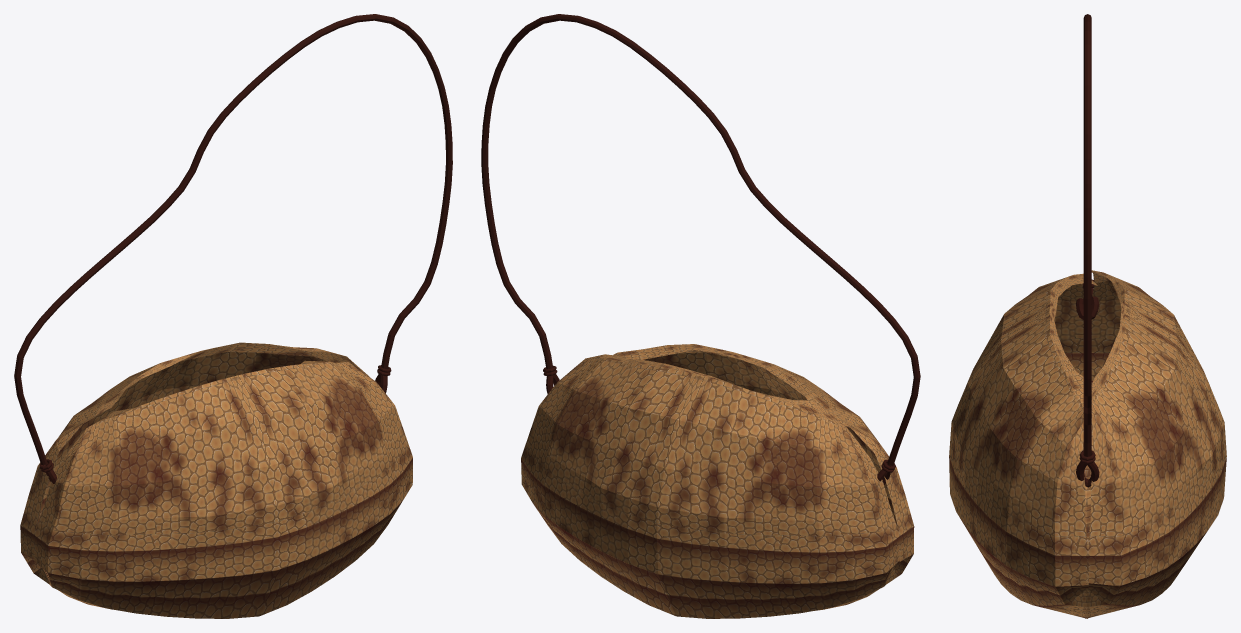
Rendered from armadillo-bolso.glb.
3 views of the same model, side by side, from view 1: azimuth 30°, elevation 25°; view 2: azimuth 150°, elevation 25°; view 3: azimuth 270°, elevation 25° (orthographic). The views are drawn at different scales.
Parts seen in each view (by area): view 1: Armadillo, Cylinder.002; view 2: Armadillo, Cylinder.002; view 3: Armadillo, Cylinder.002, Cylinder.001.
Part boxes in pixels (x1=…): Armadillo: x1=20, y1=342, x2=412, y2=618; Cylinder.002: x1=14, y1=14, x2=452, y2=464; Armadillo: x1=521, y1=344, x2=914, y2=618; Cylinder.002: x1=481, y1=14, x2=920, y2=465; Armadillo: x1=949, y1=270, x2=1226, y2=618; Cylinder.002: x1=1083, y1=14, x2=1091, y2=456; Cylinder.001: x1=1076, y1=450, x2=1099, y2=487.
Size of the model in its own units: 2.83 by 3.47 by 1.37.
2 materials, 1 textured.
